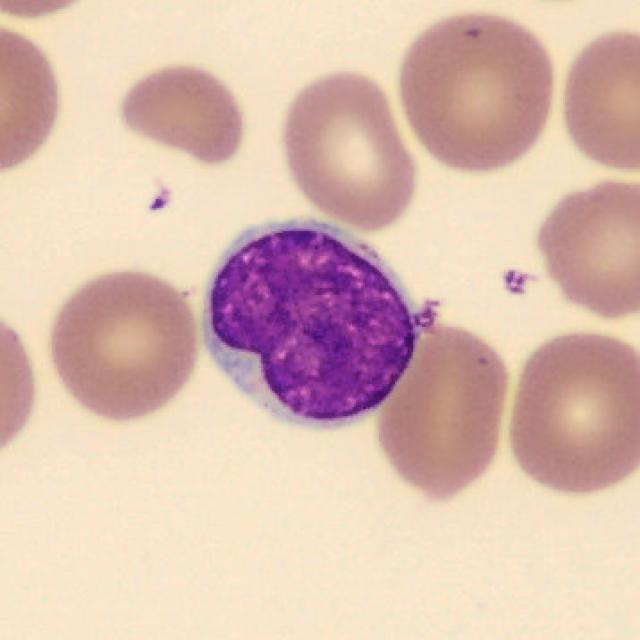Linfocito: (200, 220, 440, 428)
